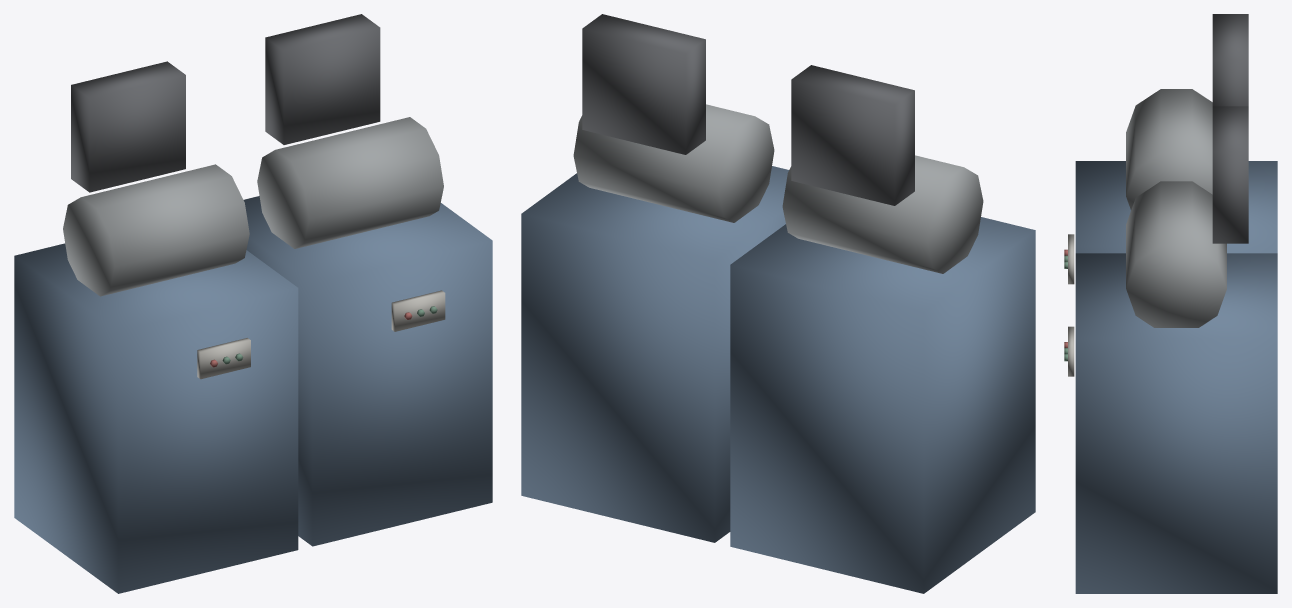
The model's file is tire_changer__cluster.glb.
3 views of the same model, side by side, from view 1: azimuth 30°, elevation 25°; view 2: azimuth 150°, elevation 25°; view 3: azimuth 270°, elevation 25° (orthographic). The views are drawn at different scales.
Parts seen in each view (by area): view 1: world; view 2: world; view 3: world.
Boxes of the visible parts, x1,y1,x2,y2 form: world: (14,14,492,593); world: (521,14,1035,593); world: (1064,14,1277,593).
Bounding box in the file's own units: 1.16 × 1.29 × 0.591.
